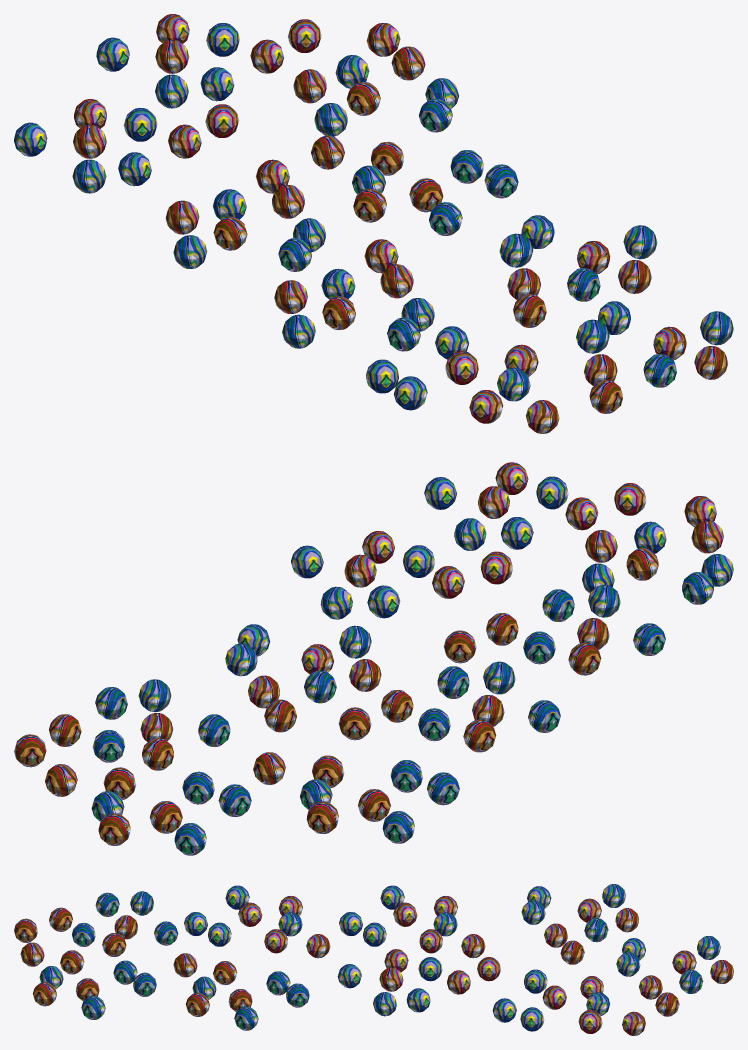
File: Marbles.fbx
3 views of the same model, one above another, from view 1: azimuth 30°, elevation 25°; view 2: azimuth 150°, elevation 25°; view 3: azimuth 270°, elevation 25° (orthographic). The views are drawn at different scales.
Visible parts, largest first — view 1: Marble.027, Marble.001, Marble.056, Marble.036, Marble.045, Marble.043, Marble.037, Marble.026, Marble.018, Marble.009, Marble.071, Marble.067 (+60 smaller); view 2: Marble.071, Marble.036, Marble.026, Marble.015, Marble.009, Marble.054, Marble.043, Marble.037, Marble.027, Marble.022, Marble.017, Marble.014 (+60 smaller); view 3: Marble.043, Marble.071, Marble.055, Marble.005, Marble.061, Marble.044, Marble.042, Marble.033, Marble.029, Marble.017, Marble.065, Marble.019 (+60 smaller).
Boxes of the visible parts, left/top/right/bottom form: Marble.027: left=72, top=159, right=106, bottom=193; Marble.001: left=311, top=135, right=344, bottom=169; Marble.056: left=700, top=311, right=733, bottom=345; Marble.036: left=155, top=74, right=188, bottom=108; Marble.045: left=391, top=46, right=425, bottom=80; Marble.043: left=419, top=98, right=452, bottom=132; Marble.037: left=155, top=40, right=189, bottom=73; Marble.026: left=73, top=125, right=106, bottom=158; Marble.018: left=380, top=264, right=413, bottom=298; Marble.009: left=165, top=200, right=199, bottom=234; Marble.071: left=623, top=225, right=657, bottom=259; Marble.067: left=499, top=233, right=533, bottom=267; Marble.071: left=291, top=545, right=323, bottom=578; Marble.036: left=218, top=784, right=251, bottom=816; Marble.026: left=358, top=789, right=390, bottom=821; Marble.015: left=418, top=708, right=450, bottom=741; Marble.009: left=463, top=719, right=496, bottom=752; Marble.054: left=585, top=530, right=617, bottom=562; Marble.043: left=138, top=679, right=171, bottom=712; Marble.037: left=149, top=801, right=182, bottom=833; Marble.027: left=427, top=772, right=459, bottom=805; Marble.022: left=568, top=642, right=601, bottom=675; Marble.017: left=443, top=630, right=476, bottom=663; Marble.014: left=338, top=707, right=371, bottom=740; Marble.043: left=492, top=998, right=516, bottom=1022; Marble.071: left=234, top=1006, right=258, bottom=1030; Marble.055: left=154, top=921, right=178, bottom=945; Marble.005: left=379, top=967, right=403, bottom=991; Marble.061: left=60, top=950, right=84, bottom=974; Marble.044: left=520, top=1007, right=544, bottom=1031; Marble.042: left=542, top=985, right=566, bottom=1009; Marble.033: left=655, top=992, right=679, bottom=1016; Marble.029: left=544, top=923, right=567, bottom=947; Marble.017: left=306, top=934, right=330, bottom=958; Marble.065: left=173, top=953, right=197, bottom=977; Marble.019: left=208, top=922, right=231, bottom=946.
Bounding box in the file's own units: 33.22 × 2.48 × 73.31.
